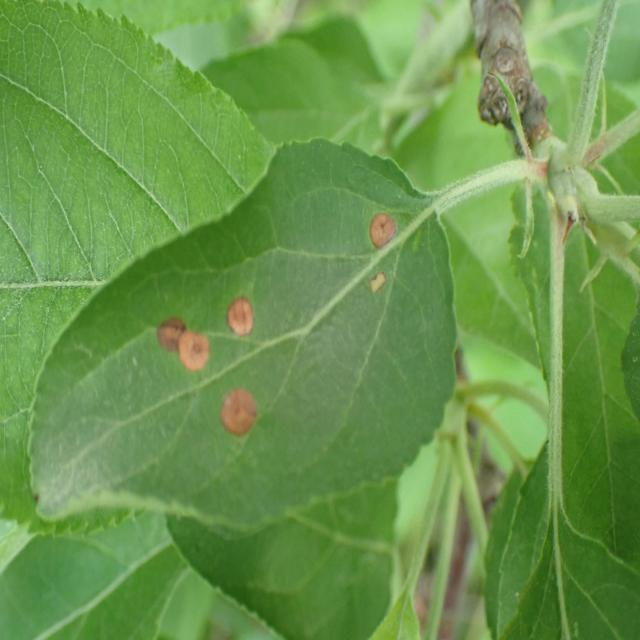Black Rot: (158, 314, 215, 383), (356, 189, 402, 269), (213, 392, 265, 454), (229, 290, 257, 357), (364, 262, 403, 297)
